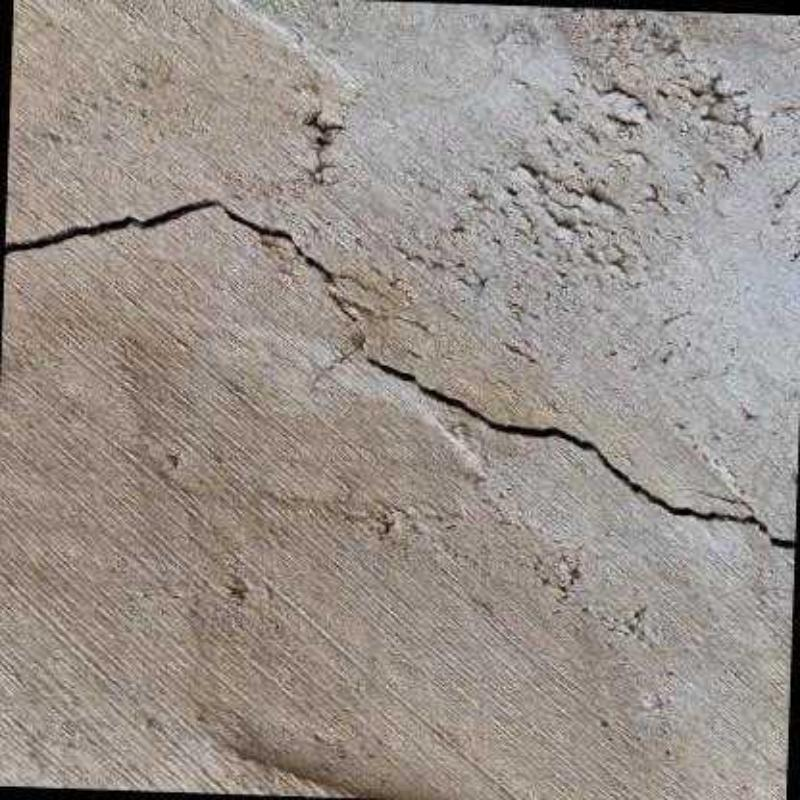pothole: (5, 199, 795, 551), (592, 85, 652, 121), (325, 342, 358, 373), (590, 192, 625, 213), (306, 113, 340, 133), (548, 212, 577, 235), (606, 115, 640, 125), (523, 165, 538, 177)
